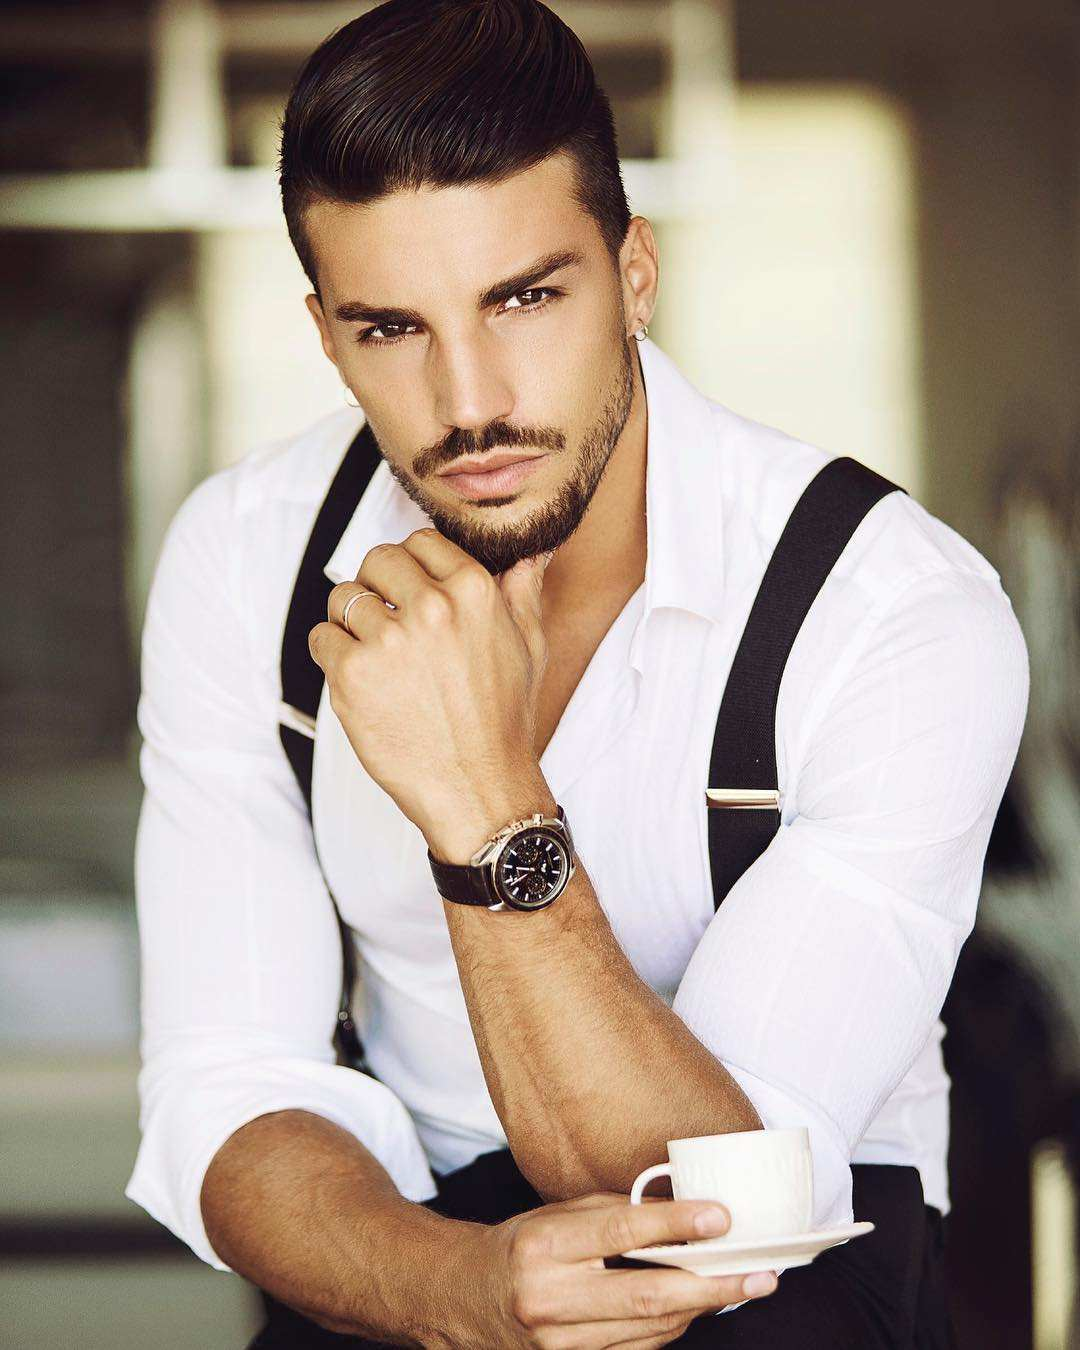person: (125, 4, 909, 1131)
